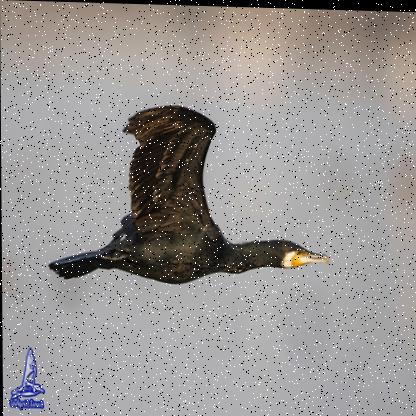Burung: (44, 98, 332, 289)
